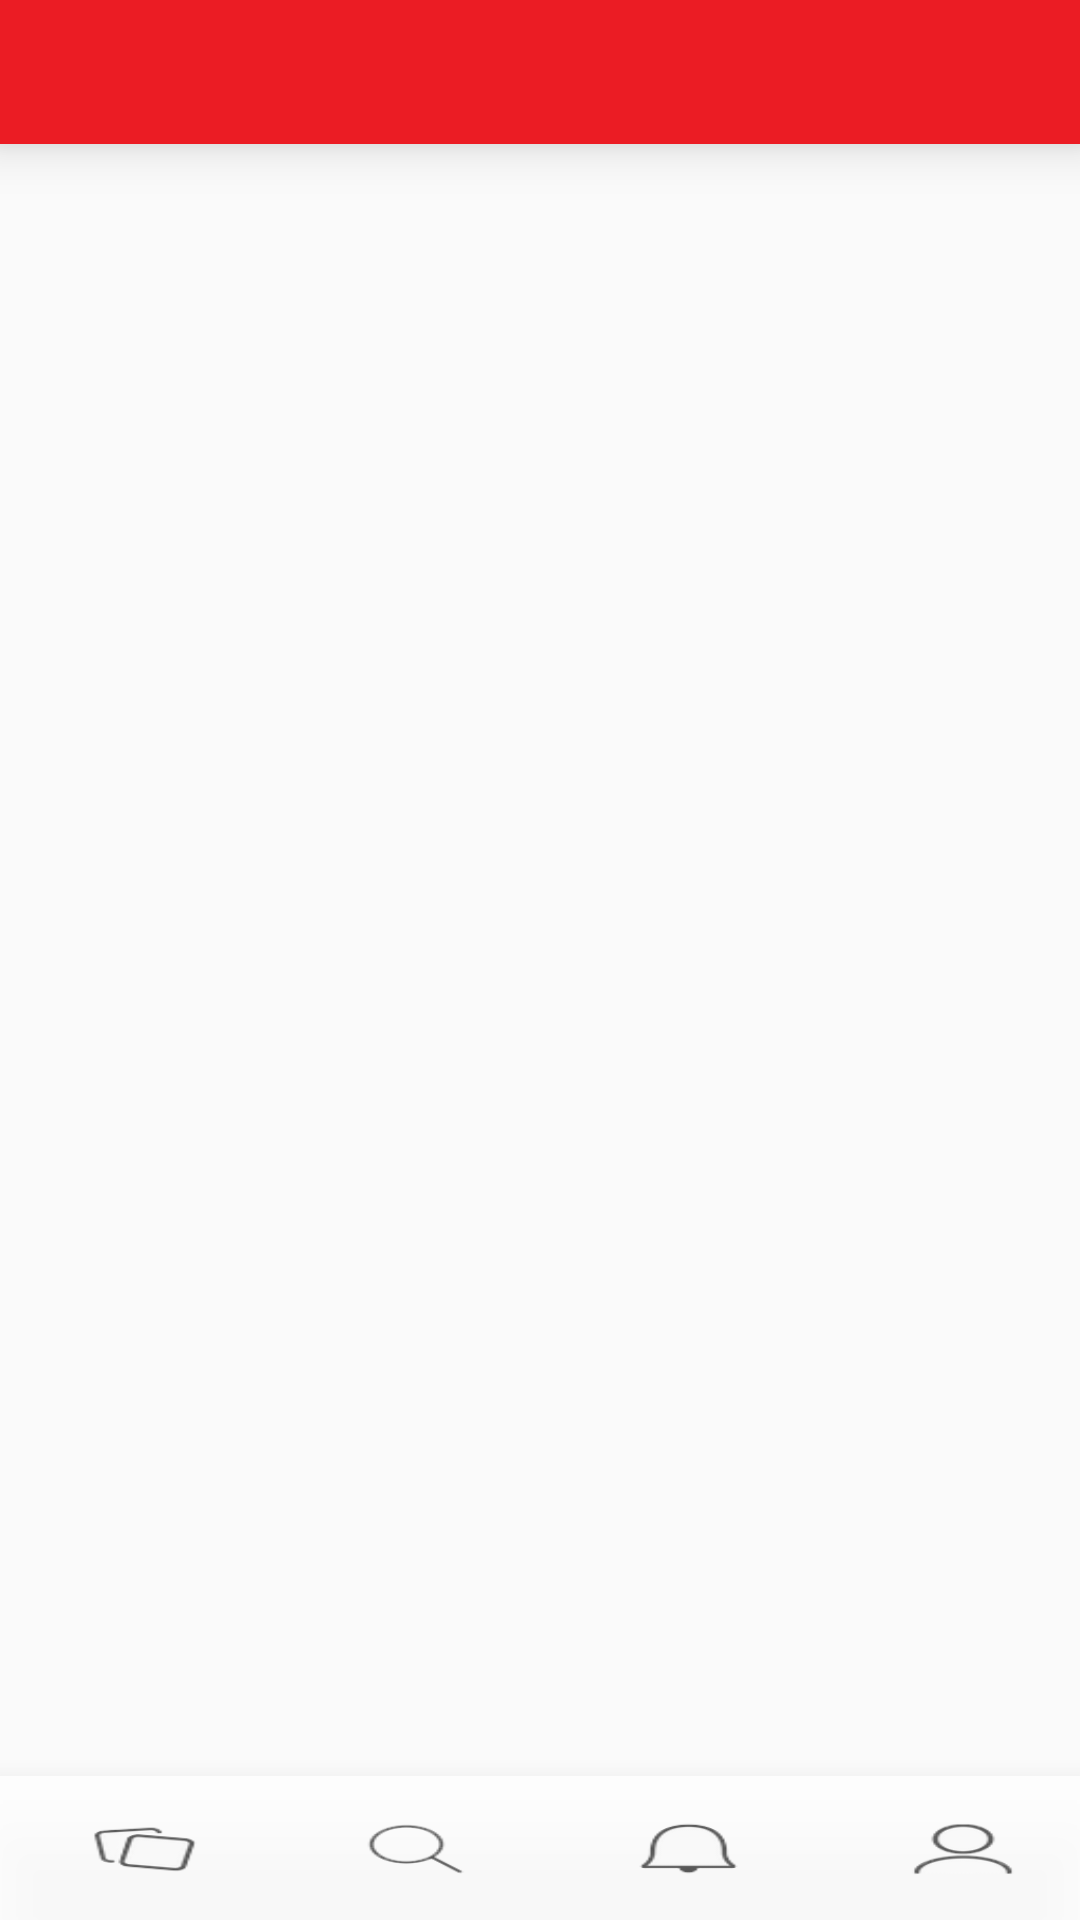

Icon bounding boxes for this 1080px×1920px phone screenshot, format (x1, y1, x2, y2):
Hình ảnh: (94, 1827, 195, 1871)
Thông báo: (640, 1824, 736, 1873)
Trang cá nhân: (914, 1824, 1012, 1874)
Tìm kiếm: (369, 1825, 462, 1873)
